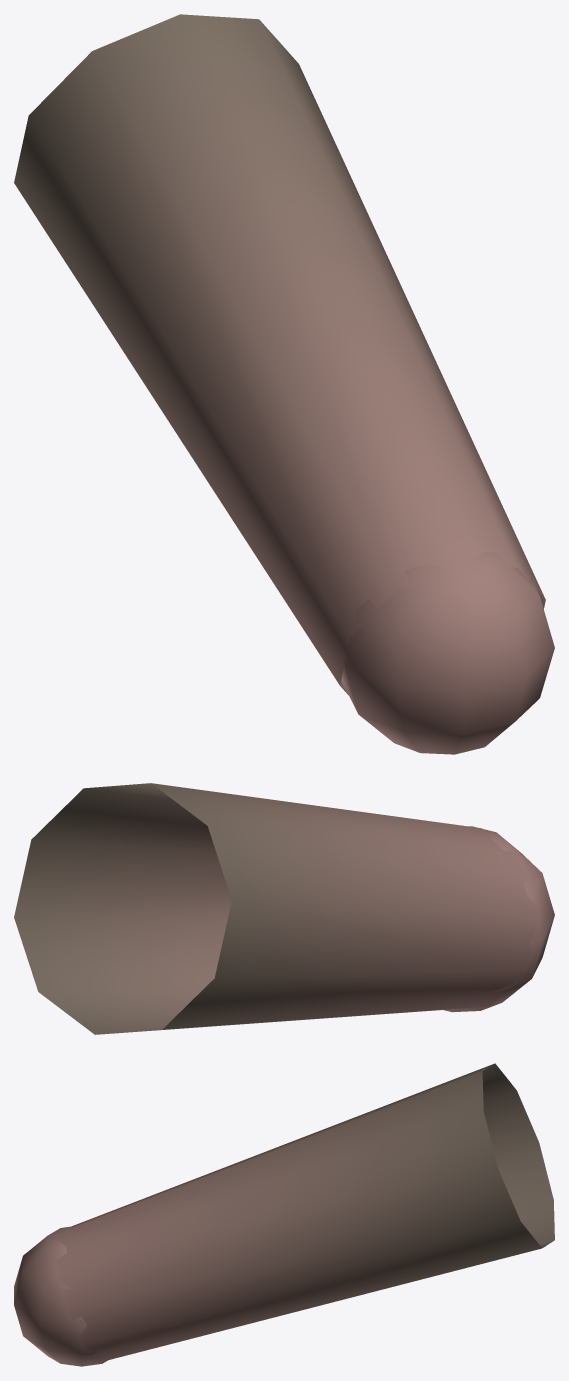
Rendered from Nezumi_Limb2L.fbx.
3 renders of one model, top to bottom at view 1: azimuth 30°, elevation 25°; view 2: azimuth 150°, elevation 25°; view 3: azimuth 270°, elevation 25°, orthographic. The views are drawn at different scales.
Visible parts, largest first — view 1: Nezumi_Limb2L; view 2: Nezumi_Limb2L; view 3: Nezumi_Limb2L.
Part boxes in pixels (x1,y1,x2,y2): Nezumi_Limb2L: (14, 14, 554, 754); Nezumi_Limb2L: (14, 783, 554, 1034); Nezumi_Limb2L: (14, 1063, 554, 1366).
Bounding box in the file's own units: 0.1912 × 0.3086 × 0.4949.
